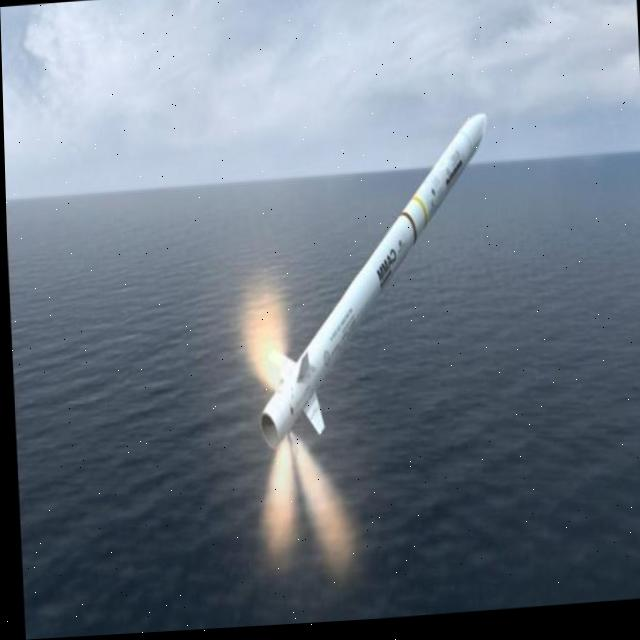missile: (245, 106, 509, 442)
